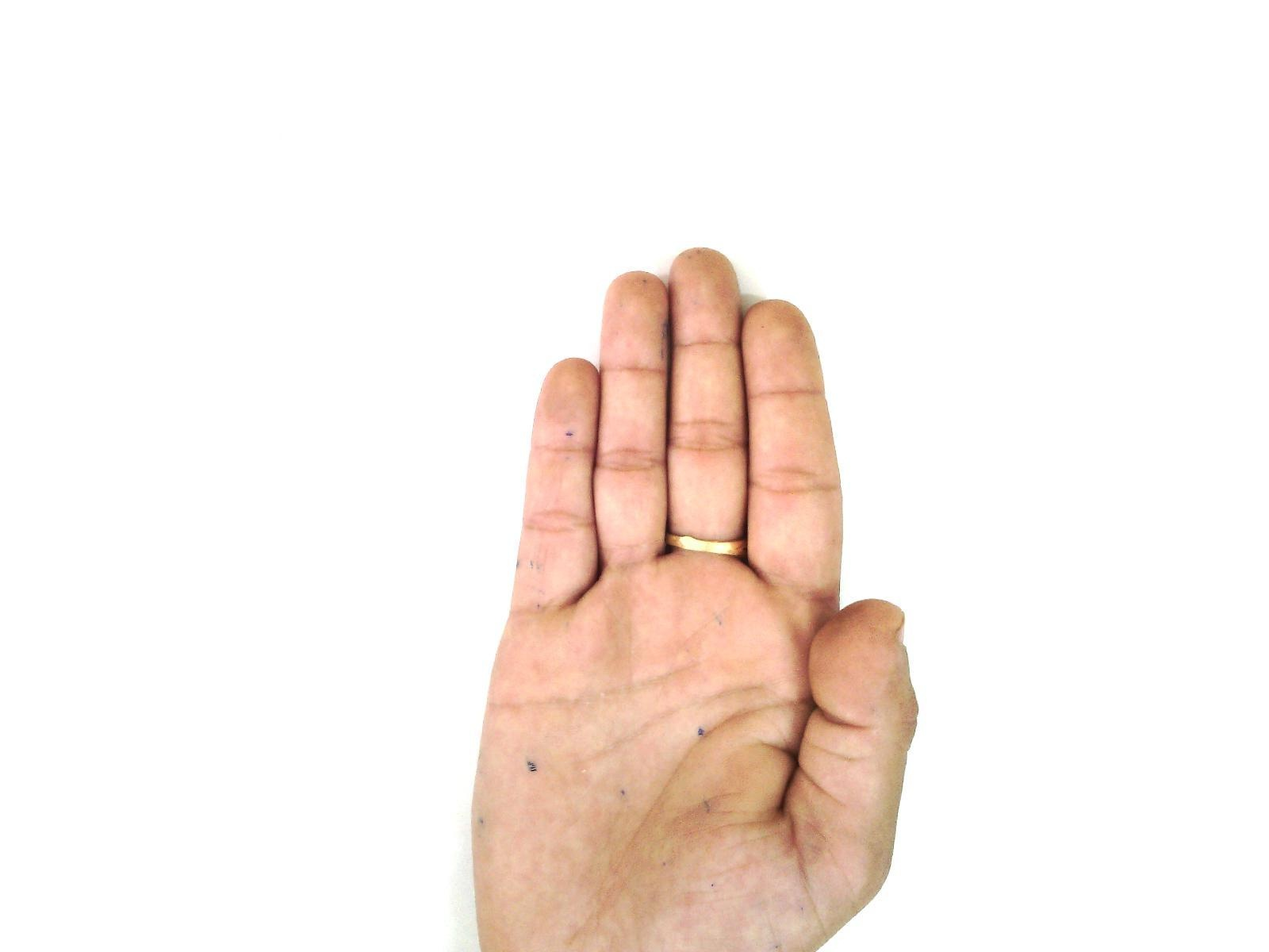open_palm: (467, 246, 922, 951)
